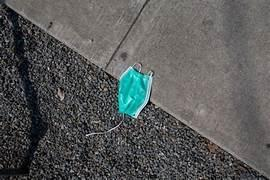Mask: (86, 63, 152, 135), (118, 63, 151, 117)
